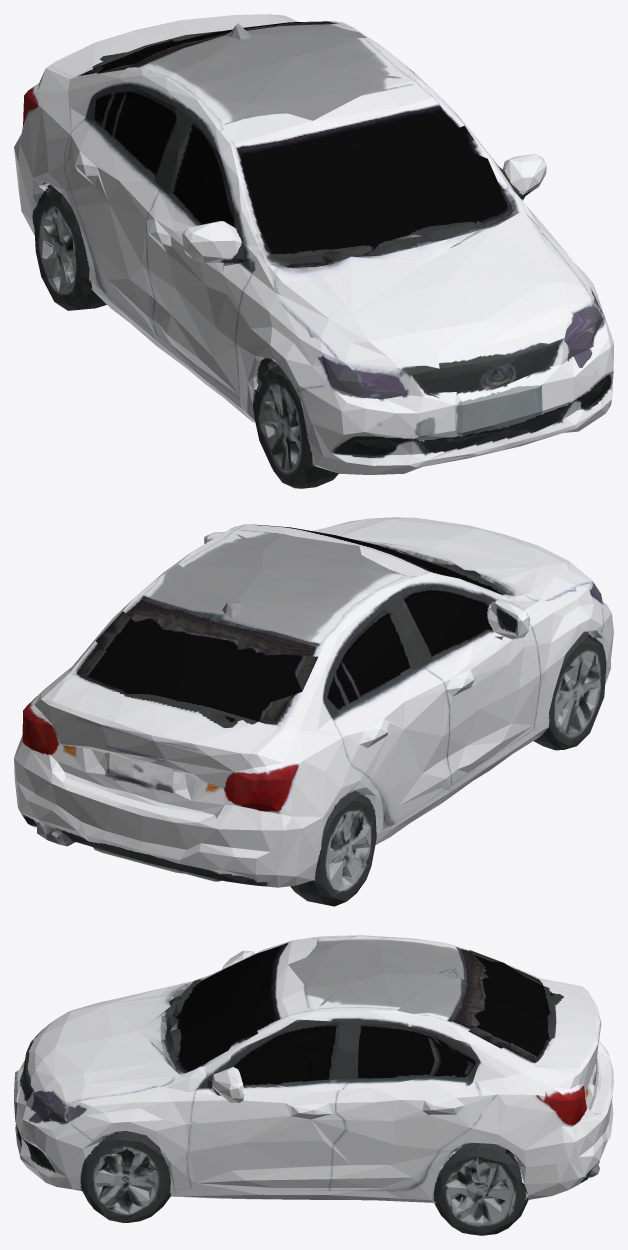
Rendered from car_lod.fbx.
3 views of the same model, one above another, from view 1: azimuth 30°, elevation 25°; view 2: azimuth 150°, elevation 25°; view 3: azimuth 270°, elevation 25° (orthographic). The views are drawn at different scales.
Parts seen in each view (by area): view 1: Mesh_0; view 2: Mesh_0; view 3: Mesh_0.
Boxes of the visible parts, <box> form: Mesh_0: <box>14,14,613,488</box>; Mesh_0: <box>14,517,613,906</box>; Mesh_0: <box>14,935,613,1235</box>.
Size of the model in its own units: 1.99 by 1.45 by 3.75.
1 material, 1 textured.
